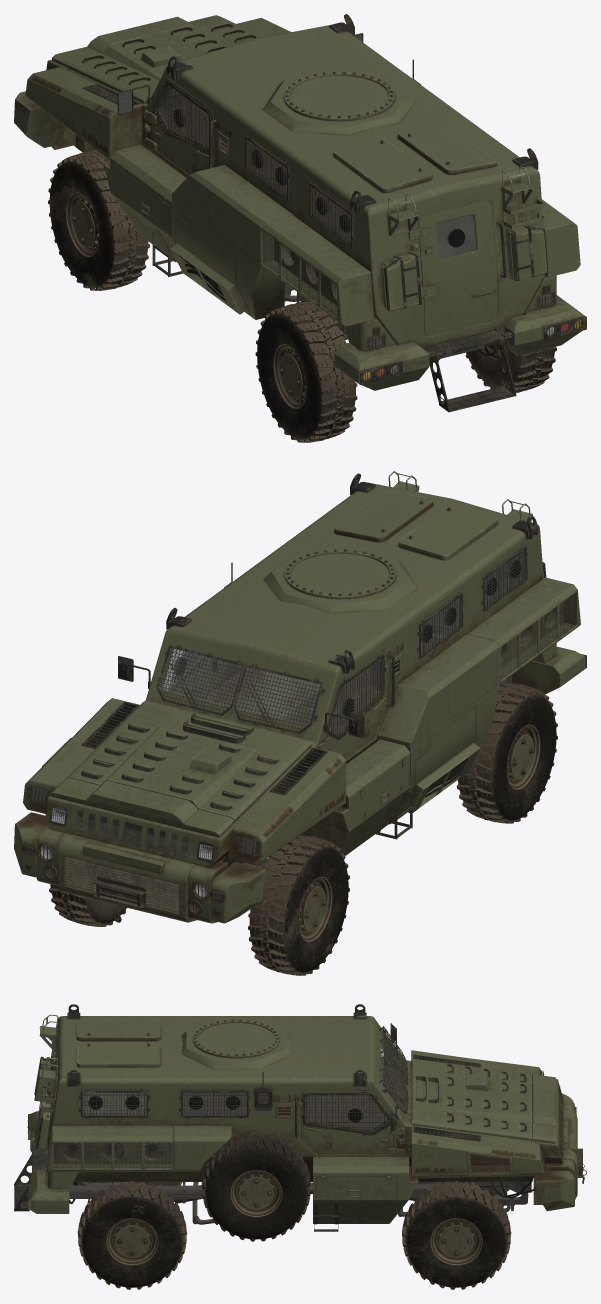
The model's file is drive_marauder.glb.
The picture shows the model from 3 angles, top to bottom: view 1: azimuth 30°, elevation 25°; view 2: azimuth 150°, elevation 25°; view 3: azimuth 270°, elevation 25°; orthographic projection. The views are drawn at different scales.
Parts seen in each view (by area): view 1: defaultMaterial (×43); view 2: defaultMaterial (×43); view 3: defaultMaterial (×44).
Part boxes in pixels (x1=…): defaultMaterial (×43): x1=14, y1=14, x2=586, y2=442; defaultMaterial (×43): x1=14, y1=473, x2=585, y2=975; defaultMaterial (×44): x1=14, y1=1004, x2=577, y2=1289.
Bounding box in the file's own units: 3.21 × 3.24 × 8.
10 materials, 10 textured.
